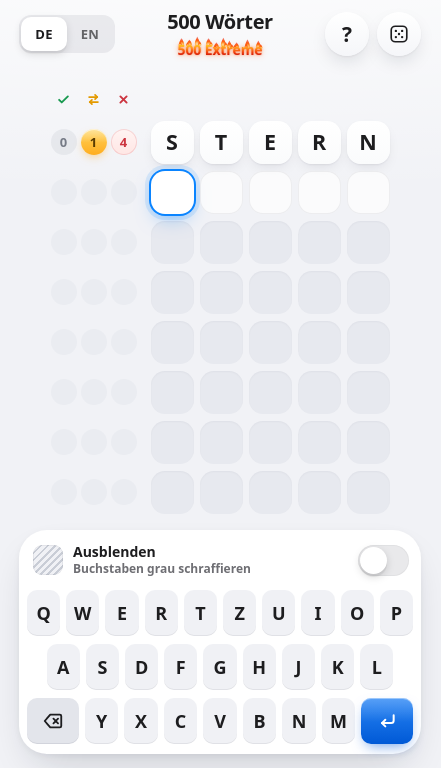
Test: Farben löschen › erscheint erst, wenn es eine eigene Markierung gibt
Expected: the button "Farben löschen" is not shown
Click the button named "S, ohne Markierung".
click(172, 142)  # box [150,120,194,164]
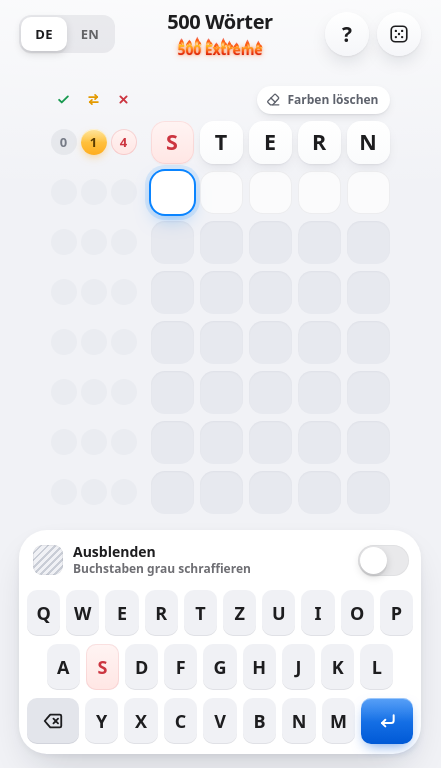
Result: the button "Farben löschen" is shown at [257,86,390,114]
